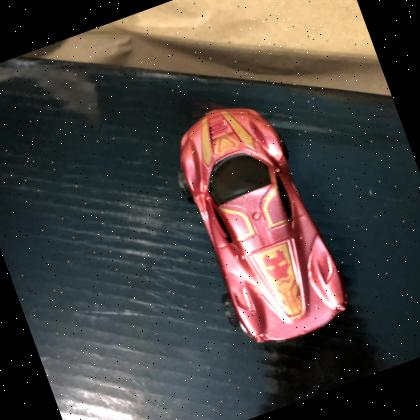Car: (156, 86, 358, 361)
